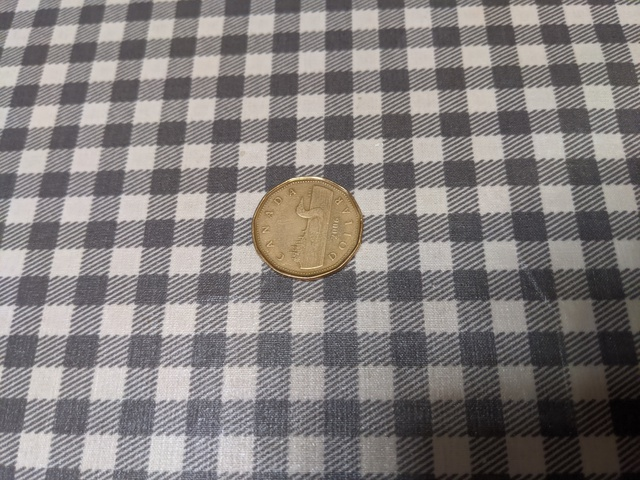loonie: (251, 167, 377, 285)
